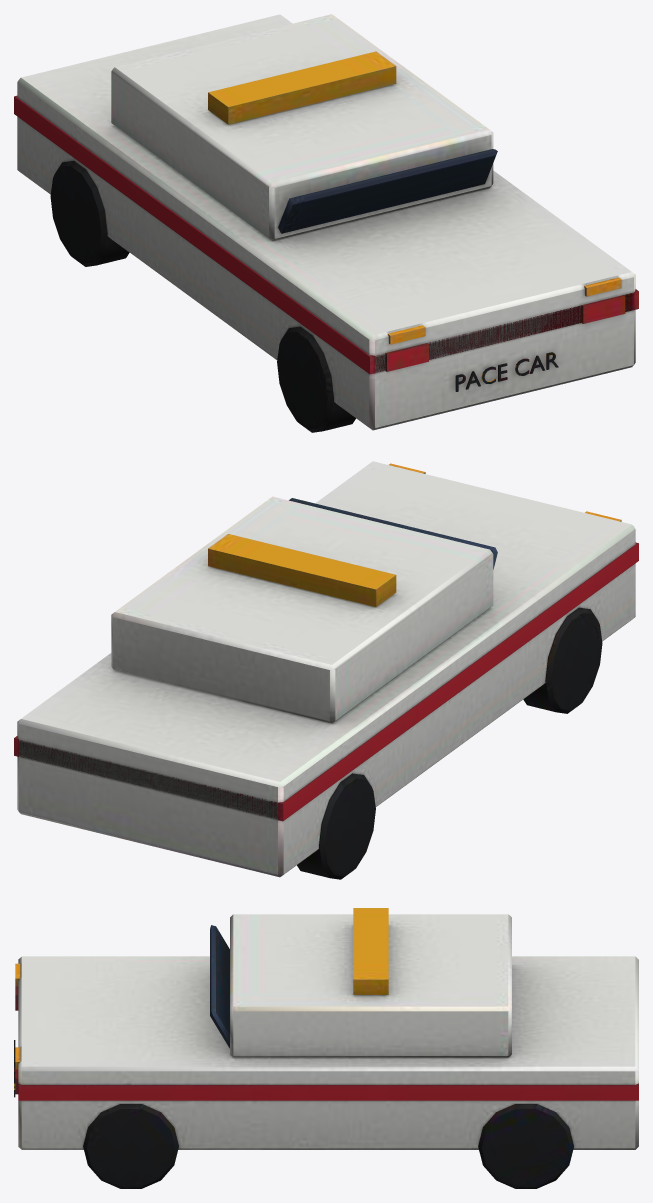
Rendered from coche_seguridad.glb.
The picture shows the model from 3 angles, top to bottom: view 1: azimuth 30°, elevation 25°; view 2: azimuth 150°, elevation 25°; view 3: azimuth 270°, elevation 25°; orthographic projection. The views are drawn at different scales.
Parts seen in each view (by area): view 1: coche_seguridad; view 2: coche_seguridad; view 3: coche_seguridad.
Boxes of the visible parts, bbox=[...] form: coche_seguridad: bbox=[14, 14, 638, 432]; coche_seguridad: bbox=[14, 461, 638, 879]; coche_seguridad: bbox=[14, 908, 638, 1188].
Size of the model in its own units: 1.96 by 1.47 by 4.43.
Materials: 1 (1 with a texture image).
